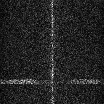wifi: (1, 78, 104, 84)
